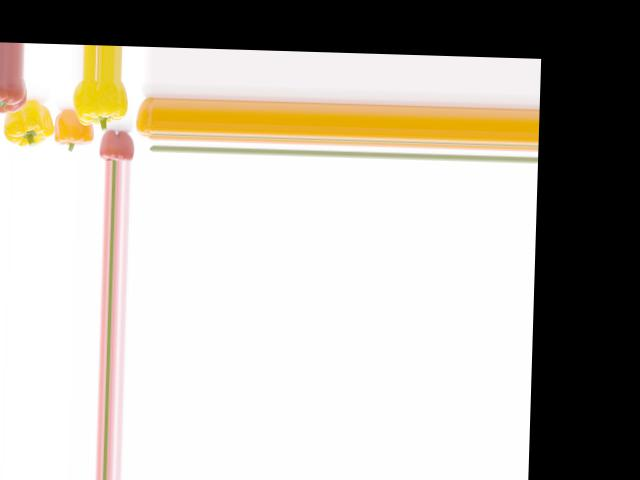bell_pepper: (133, 96, 155, 141)
